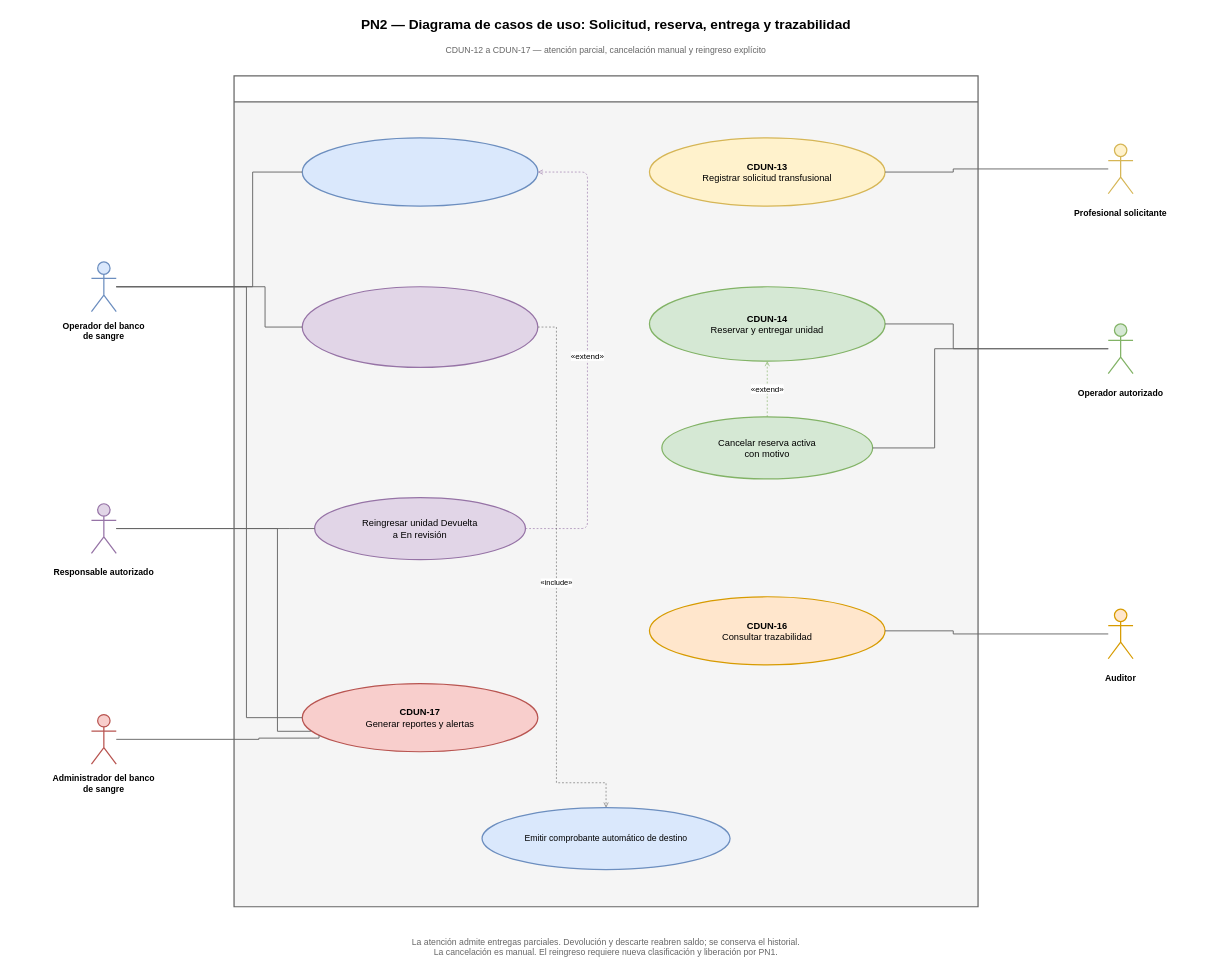
Image size: 1224x979. Some labels were removed from this diagram. The box of each missing label's shape, as (x1, y1, x2, y2) in pixels:
CDUN-12 Gestionar inventario: (301, 137, 538, 206)
CDUN-15 Registrar transfusión, devolución o descarte: (301, 286, 538, 368)
HemovidaGest — PN2: (233, 75, 978, 907)
